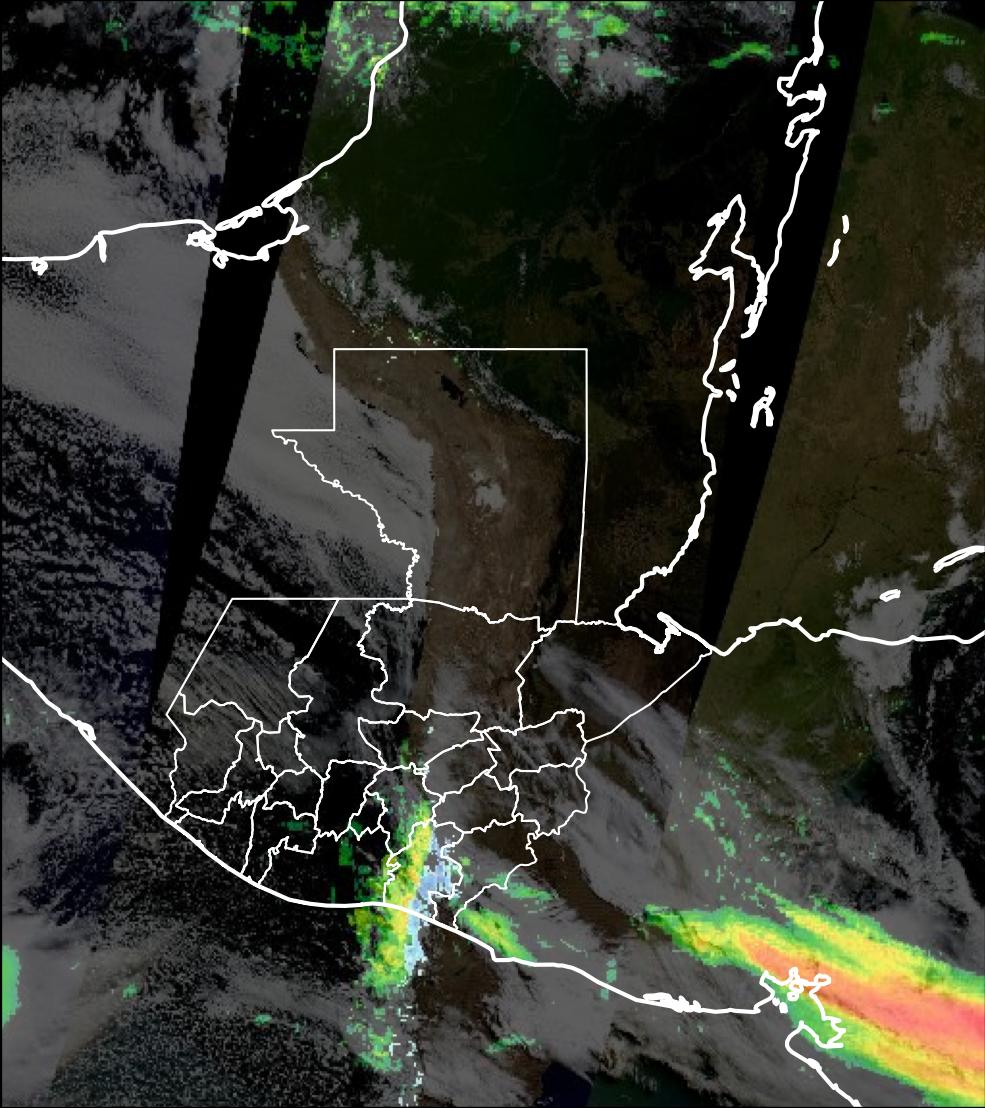precipitacion: (739, 909, 985, 1108)
